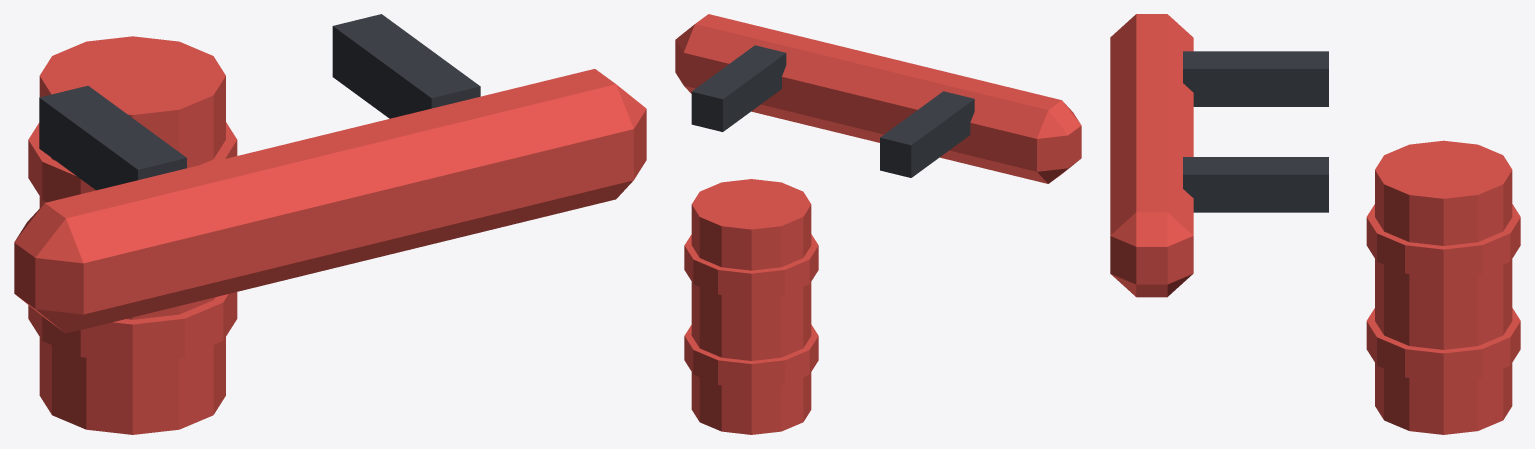
The model's file is chair_m0_1.glb.
3 views of the same model, side by side, from view 1: azimuth 30°, elevation 25°; view 2: azimuth 150°, elevation 25°; view 3: azimuth 270°, elevation 25° (orthographic). The views are drawn at different scales.
Visible parts, largest first — view 1: chair_m0_1_mesh; view 2: chair_m0_1_mesh; view 3: chair_m0_1_mesh.
Boxes of the visible parts, <box> form: chair_m0_1_mesh: <box>14,14,646,434</box>; chair_m0_1_mesh: <box>675,14,1081,434</box>; chair_m0_1_mesh: <box>1110,14,1520,434</box>.
Size of the model in its own units: 0.5 by 0.31 by 0.394.
